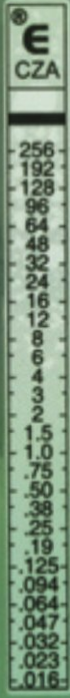number: (19, 613, 60, 632), (18, 140, 56, 160), (19, 556, 59, 575), (20, 670, 60, 689), (19, 594, 61, 612), (18, 633, 60, 651), (19, 575, 60, 593), (19, 651, 60, 669), (21, 178, 56, 198), (21, 160, 57, 179), (22, 461, 56, 481), (22, 480, 56, 499), (23, 423, 55, 442), (23, 500, 55, 518), (23, 519, 55, 537), (24, 537, 55, 555), (24, 443, 55, 460), (26, 310, 52, 330), (23, 197, 51, 215), (27, 291, 52, 311), (24, 254, 50, 273), (23, 216, 50, 234), (25, 272, 49, 291), (25, 235, 50, 253), (28, 385, 48, 404), (28, 404, 47, 423), (30, 329, 46, 349), (30, 366, 47, 384), (30, 348, 46, 367)
